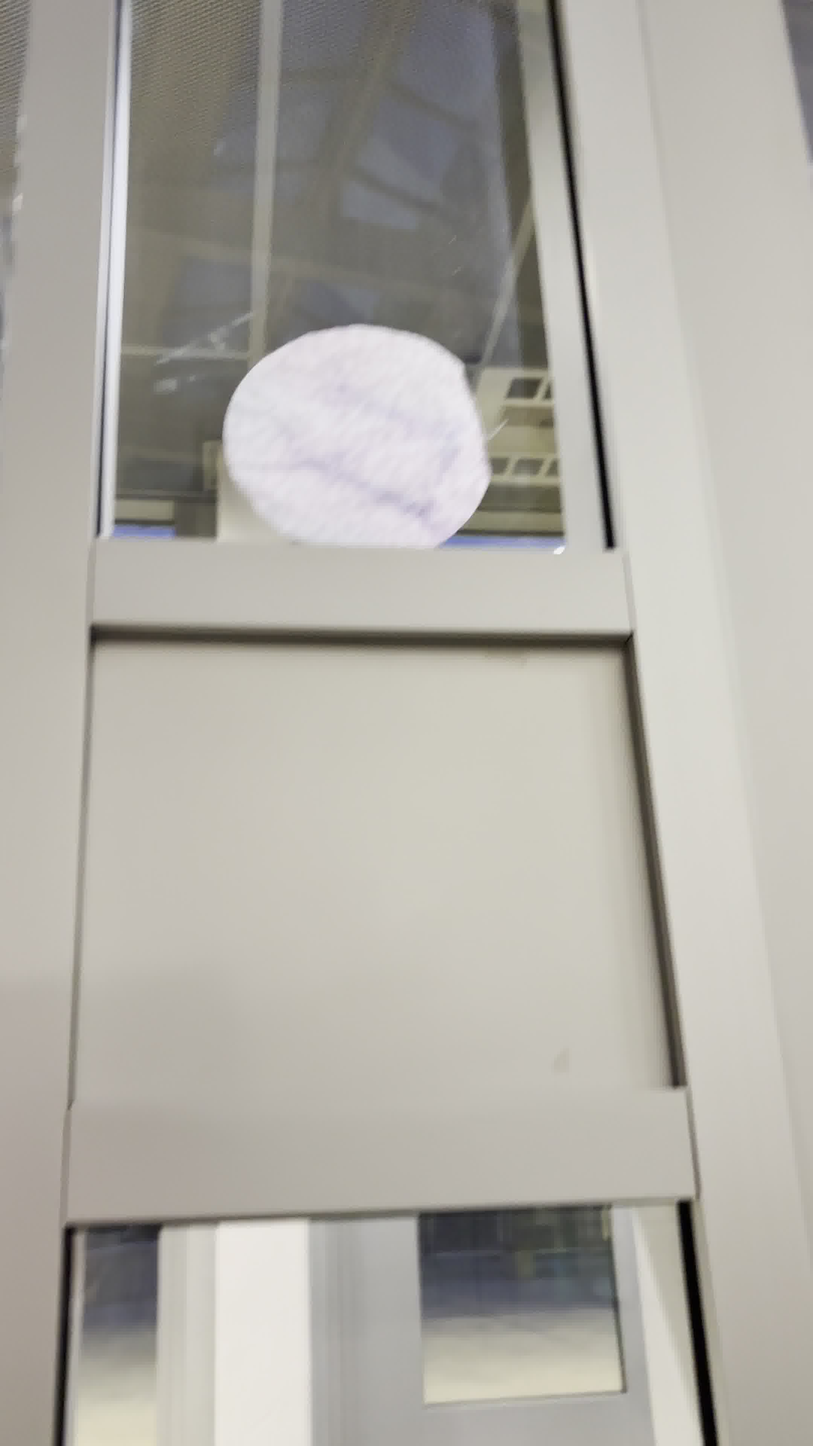Target: (217, 325, 494, 556)
